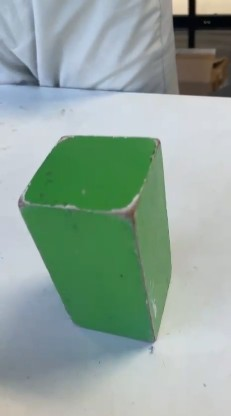green: (22, 133, 170, 342)
